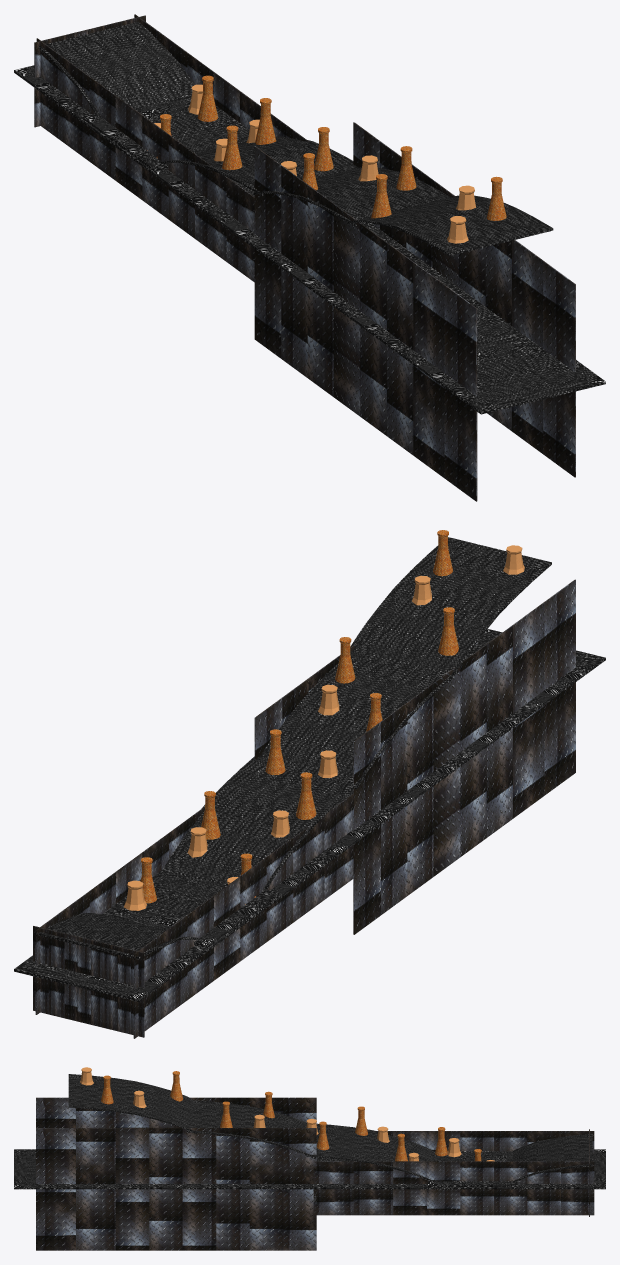
Rendered from industryMap.glb.
3 renders of one model, top to bottom at view 1: azimuth 30°, elevation 25°; view 2: azimuth 150°, elevation 25°; view 3: azimuth 270°, elevation 25°, orthographic. The views are drawn at different scales.
Visible parts, largest first — view 1: wall.004, wall.007, wall, slopeEntrance, ground.007, slopeEntrance.003, ground, slopeEntrance.002, slopeEntrance.001, wall.003, ground.006, ground.005 (+6 smaller); view 2: wall.004, wall, slopeEntrance.003, slopeEntrance.001, slopeEntrance.002, wall.006, ground, wall.003, slopeEntrance, ground.001, wall.007, ground.007 (+6 smaller); view 3: wall.007, wall.003, wall.004, slopeEntrance.003, slopeEntrance.001, wall, slopeEntrance.002, slopeEntrance, ground.007, ground, ground.001, ground.004 (+8 smaller).
Part boxes in pixels (box(x1,y1,x2,y2)): wall.004: box(254, 146, 477, 501); wall.007: box(353, 122, 575, 477); wall: box(36, 38, 254, 282); slopeEntrance: box(38, 21, 194, 117); ground.007: box(410, 334, 605, 414); slopeEntrance.003: box(347, 195, 553, 255); ground: box(82, 95, 249, 171); slopeEntrance.002: box(253, 167, 450, 226); slopeEntrance.001: box(160, 136, 358, 196); wall.003: box(134, 14, 309, 142); ground.006: box(343, 290, 526, 365); ground.005: box(280, 238, 463, 320); wall.004: box(353, 579, 575, 934); wall: box(133, 794, 353, 1038); slopeEntrance.003: box(350, 537, 551, 681); slopeEntrance.001: box(163, 755, 364, 893); slopeEntrance.002: box(261, 650, 458, 789); wall.006: box(33, 926, 144, 1037); ground: box(102, 869, 279, 947); wall.003: box(35, 807, 204, 1014); slopeEntrance: box(34, 913, 201, 959); ground.001: box(14, 945, 210, 1001); wall.007: box(254, 642, 477, 759); ground.007: box(463, 629, 605, 709); wall.007: box(36, 1128, 316, 1250); wall.003: box(313, 1161, 594, 1215); wall.004: box(36, 1097, 316, 1127); slopeEntrance.003: box(68, 1074, 197, 1134); slopeEntrance.001: box(305, 1123, 434, 1182); wall: box(373, 1131, 594, 1153); slopeEntrance.002: box(187, 1100, 315, 1159); slopeEntrance: box(512, 1133, 592, 1182); ground.007: box(14, 1149, 105, 1189); ground: box(428, 1151, 519, 1186); ground.001: box(514, 1149, 605, 1189); ground.004: box(261, 1157, 352, 1189).
Bounding box in the file's own units: 1111 × 2232 × 7196.
4 materials, 4 textured.
